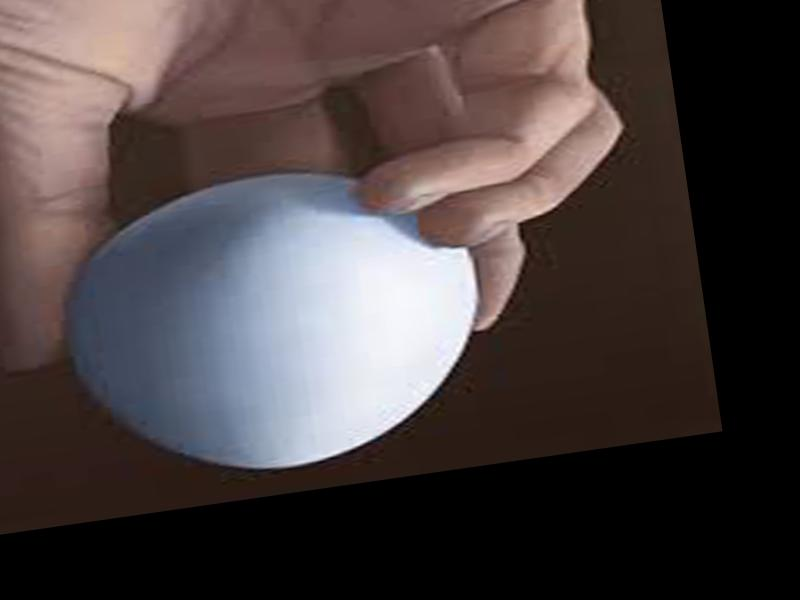Eggs: (53, 151, 503, 497)
